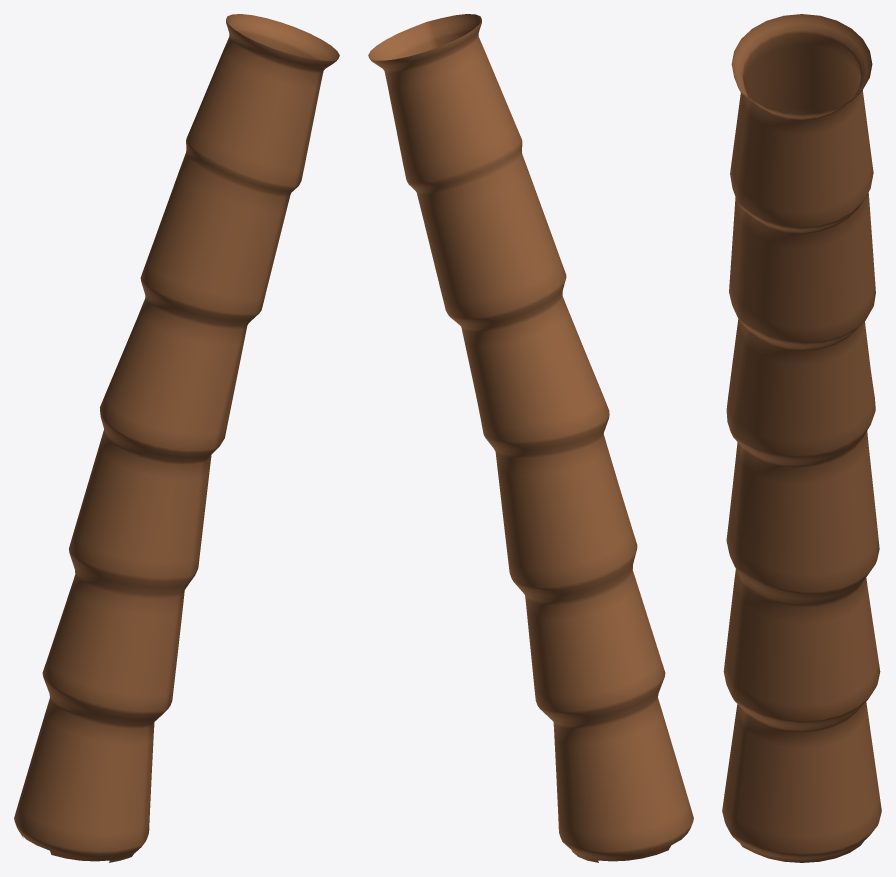
File: mitadPalma.obj
The picture shows the model from 3 angles, left to right: view 1: azimuth 30°, elevation 25°; view 2: azimuth 150°, elevation 25°; view 3: azimuth 270°, elevation 25°; orthographic projection. The views are drawn at different scales.
Size of the model in its own units: 5.24 by 12.69 by 2.02.
1 material, 1 textured.
